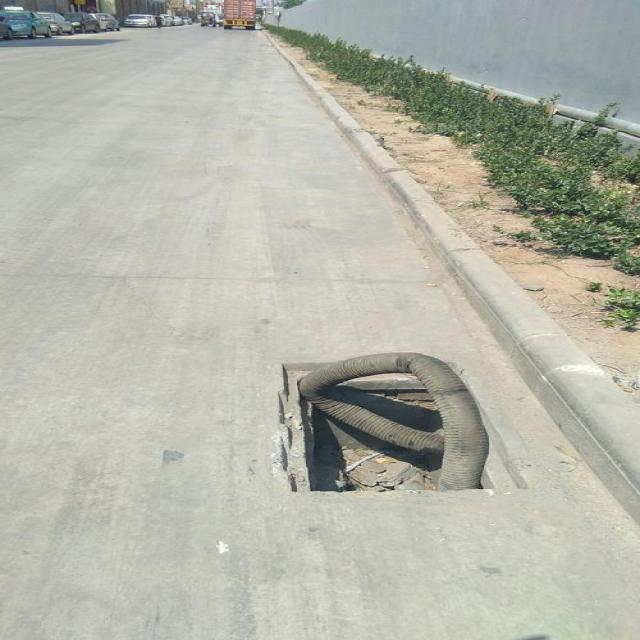manhole-cover: (261, 346, 591, 524)
